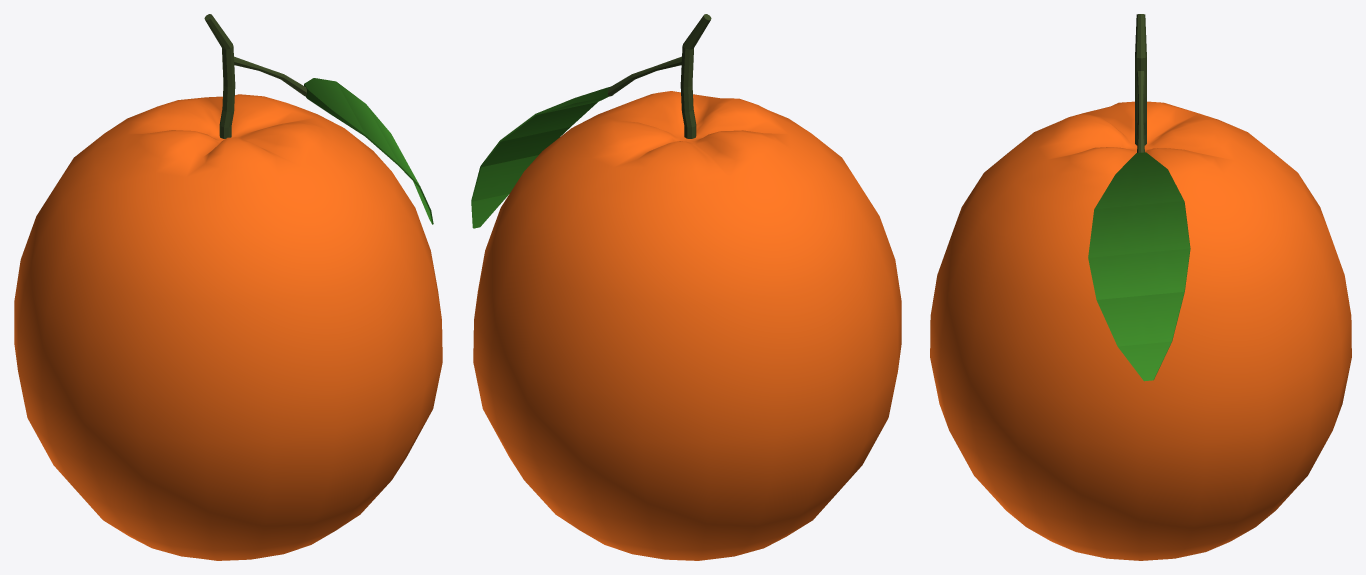
File: Orange.fbx
The picture shows the model from 3 angles, left to right: view 1: azimuth 30°, elevation 25°; view 2: azimuth 150°, elevation 25°; view 3: azimuth 270°, elevation 25°; orthographic projection. The views are drawn at different scales.
Parts seen in each view (by area): view 1: Orange; view 2: Orange; view 3: Orange.
Part boxes in pixels (x1,y1,x2,y2): Orange: (14, 14, 442, 560); Orange: (471, 14, 901, 560); Orange: (930, 14, 1351, 560).
Size of the model in its own units: 0.4754 by 0.6067 by 0.4485.
Materials: 1 (1 with a texture image).
